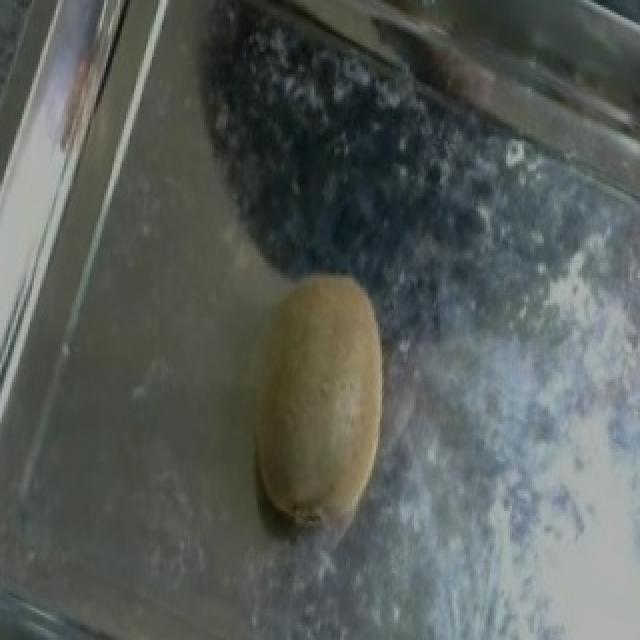Fruit: (210, 238, 436, 551)
